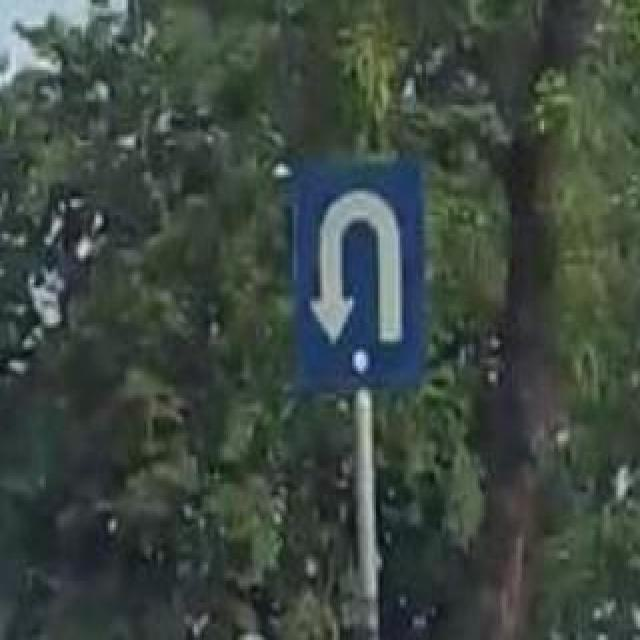U-turn: (296, 162, 430, 390)
